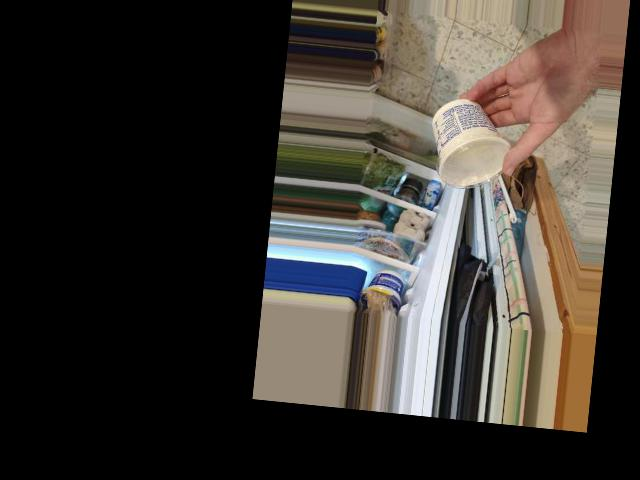cotage: (429, 99, 505, 191)
